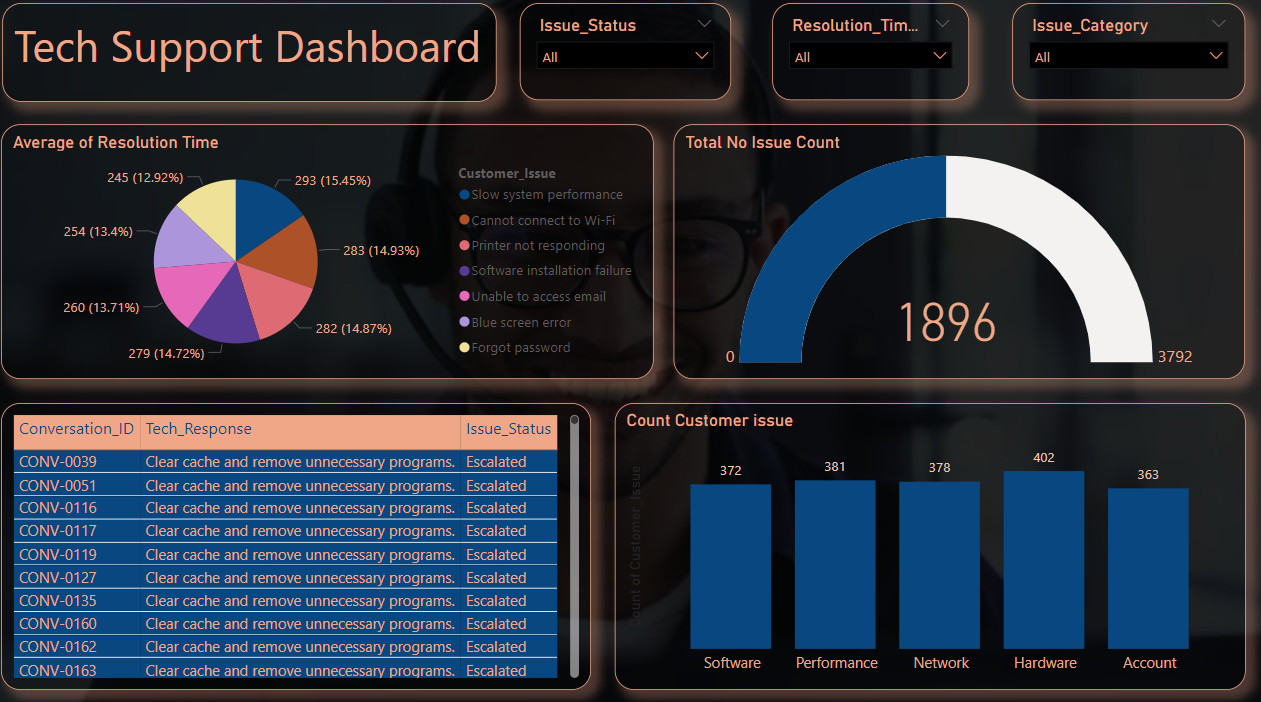

Layout of this report page (visuals, bound fields, positions):
{"tool":"powerbi","page":{"name":"Page 1","canvas":[1280,720],"ordinal":0},"visuals":[{"type":"columnChart","title":"Count Customer issue","fields":{"Category":["tech_support_dataset.Issue_Category"],"Y":["CountNonNull(tech_support_dataset.Customer_Issue)"]},"box":[630.5,418.4,627.6,285.7],"z":0},{"type":"tableEx","fields":{"Values":["tech_support_dataset.Conversation_ID","tech_support_dataset.Tech_Response","tech_support_dataset.Issue_Status"]},"box":[20.2,418.4,587.2,285.7],"z":1000},{"type":"slicer","fields":{"Values":["tech_support_dataset.Issue_Status"]},"box":[536.7,20.2,210.6,96.7],"z":2000},{"type":"slicer","fields":{"Values":["tech_support_dataset.Issue_Category"]},"box":[1025.8,20.2,232.3,96.7],"z":3000},{"type":"slicer","fields":{"Values":["tech_support_dataset.Resolution_Time"]},"box":[787.7,20.2,196.2,96.7],"z":4000},{"type":"pieChart","title":"Average of Resolution Time","fields":{"Category":["tech_support_dataset.Customer_Issue"],"Y":["CountNonNull(tech_support_dataset.Avg Resolution Time)"]},"box":[20.2,139.9,649.2,253.9],"z":5000},{"type":"textbox","box":[21.6,20.2,492,98.1],"z":6000},{"type":"gauge","title":"Total No Issue Count","fields":{"Y":["CountNonNull(tech_support_dataset.Issue_Status)"]},"box":[689.2,140.6,569.7,253.8],"z":7000}]}

Visuals, with their boxes in screenshot pixels (x1, y1, x2, y2), scaled from the page's 1280x720 canvas onto the 1261x702 screenshot:
"Count Customer issue" columnChart: locate(621, 408, 1239, 686)
tableEx - tech_support_dataset.Conversation_ID x tech_support_dataset.Tech_Response: locate(20, 408, 598, 686)
slicer - tech_support_dataset.Issue_Status: locate(529, 20, 736, 114)
slicer - tech_support_dataset.Issue_Category: locate(1011, 20, 1239, 114)
slicer - tech_support_dataset.Resolution_Time: locate(776, 20, 969, 114)
"Average of Resolution Time" pieChart: locate(20, 136, 659, 384)
textbox: locate(21, 20, 506, 115)
"Total No Issue Count" gauge: locate(679, 137, 1240, 385)
